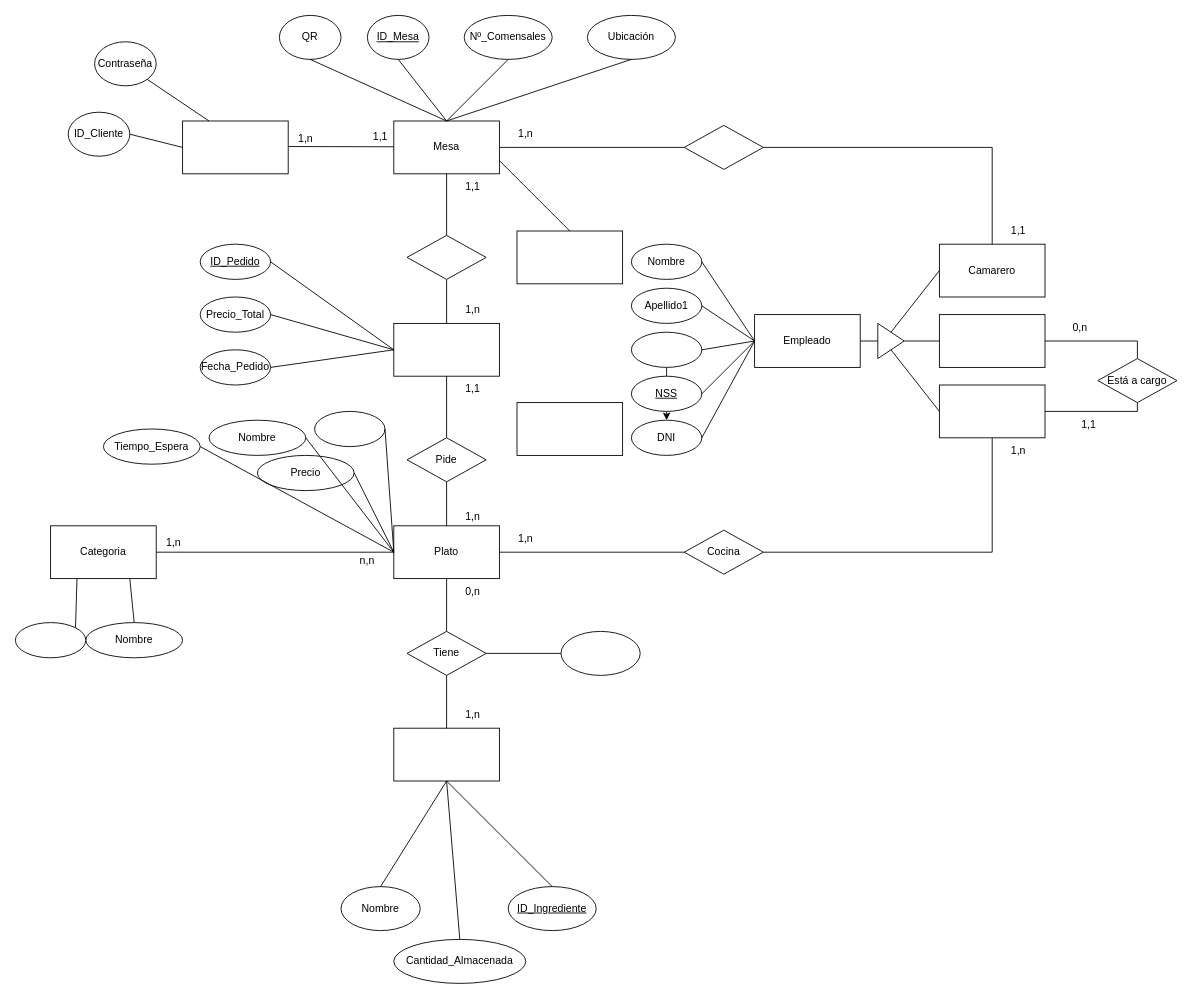
Image size: 1192x999. Some labels were removed from this diagram. The centre of each missing label's shape, as x and y in pixels:
Apellido2: pixel 666 349
Asignado: pixel 723 147
Cantidad: pixel 600 653
Cliente: pixel 235 147
Cocinero: pixel 992 411
ID_Categoria: pixel 50 640
ID_Plato: pixel 349 429
Ingrediente: pixel 446 754
Orden: pixel 569 257
OrdenItem: pixel 569 428
PD: pixel 890 341
Pedido: pixel 446 349
Pinche: pixel 992 340
Realiza: pixel 446 257
